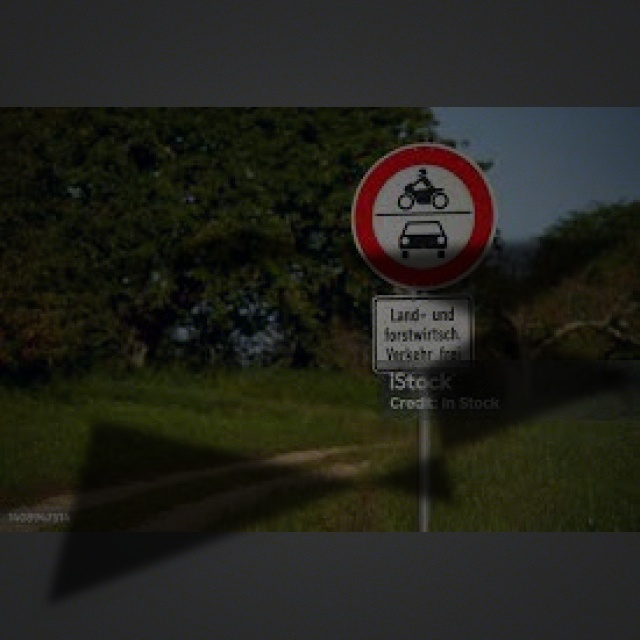All_Motor_Vehicles_Prohibited: (346, 140, 496, 290)
